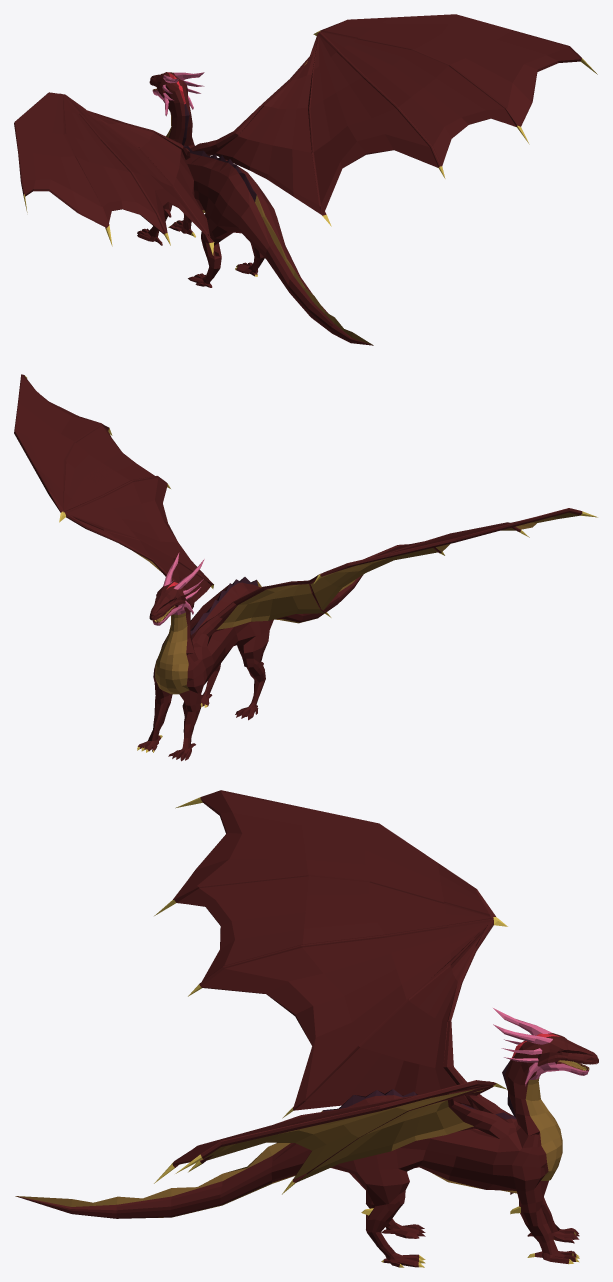
File: Dragon_Cut_Up_NEW.fbx
3 views of the same model, one above another, from view 1: azimuth 30°, elevation 25°; view 2: azimuth 150°, elevation 25°; view 3: azimuth 270°, elevation 25° (orthographic). The views are drawn at different scales.
Visible parts, largest first — view 1: Dragon_OBJ:polySurface2SragonpolySurface3, Dragon_OBJ:polySurface4polySurface2SragonpolySurface5, Dragon_OBJ:polySurface6polySurface4polySurface2SragonpolySur, Dragon_OBJ:polySurface11polySurface10polySurface8polySurface, Dragon_OBJ:SragonpolySurface1; view 2: Dragon_OBJ:polySurface2SragonpolySurface3, Dragon_OBJ:polySurface6polySurface4polySurface2SragonpolySur, Dragon_OBJ:polySurface4polySurface2SragonpolySurface5, Dragon_OBJ:SragonpolySurface1, Dragon_OBJ:polySurface8polySurface6polySurface4polySurface2S, Dragon_OBJ:polySurface11polySurface10polySurface8polySurface; view 3: Dragon_OBJ:polySurface4polySurface2SragonpolySurface5, Dragon_OBJ:polySurface6polySurface4polySurface2SragonpolySur, Dragon_OBJ:polySurface2SragonpolySurface3, Dragon_OBJ:polySurface11polySurface10polySurface8polySurface, Dragon_OBJ:SragonpolySurface1, Dragon_OBJ:polySurface10polySurface8polySurface6polySurface4, Dragon_OBJ:polySurface8polySurface6polySurface4polySurface2S.
Boxes of the visible parts, x1,y1,x2,y2 form: Dragon_OBJ:polySurface2SragonpolySurface3: [207, 14, 597, 226]; Dragon_OBJ:polySurface4polySurface2SragonpolySurface5: [14, 92, 214, 255]; Dragon_OBJ:polySurface6polySurface4polySurface2SragonpolySur: [137, 101, 273, 287]; Dragon_OBJ:polySurface11polySurface10polySurface8polySurface: [238, 195, 373, 345]; Dragon_OBJ:SragonpolySurface1: [149, 72, 204, 116]; Dragon_OBJ:polySurface2SragonpolySurface3: [14, 374, 213, 608]; Dragon_OBJ:polySurface6polySurface4polySurface2SragonpolySur: [153, 577, 273, 761]; Dragon_OBJ:polySurface4polySurface2SragonpolySurface5: [191, 508, 597, 646]; Dragon_OBJ:SragonpolySurface1: [149, 552, 204, 625]; Dragon_OBJ:polySurface8polySurface6polySurface4polySurface2S: [137, 682, 172, 752]; Dragon_OBJ:polySurface11polySurface10polySurface8polySurface: [257, 575, 362, 623]; Dragon_OBJ:polySurface4polySurface2SragonpolySurface5: [154, 790, 509, 1118]; Dragon_OBJ:polySurface6polySurface4polySurface2SragonpolySur: [322, 1060, 579, 1243]; Dragon_OBJ:polySurface2SragonpolySurface3: [154, 1080, 507, 1194]; Dragon_OBJ:polySurface11polySurface10polySurface8polySurface: [15, 1111, 322, 1218]; Dragon_OBJ:SragonpolySurface1: [493, 1008, 598, 1086]; Dragon_OBJ:polySurface10polySurface8polySurface6polySurface4: [349, 1169, 425, 1267]; Dragon_OBJ:polySurface8polySurface6polySurface4polySurface2S: [510, 1181, 579, 1264].
Bounding box in the file's own units: 1983 × 717 × 1339.
